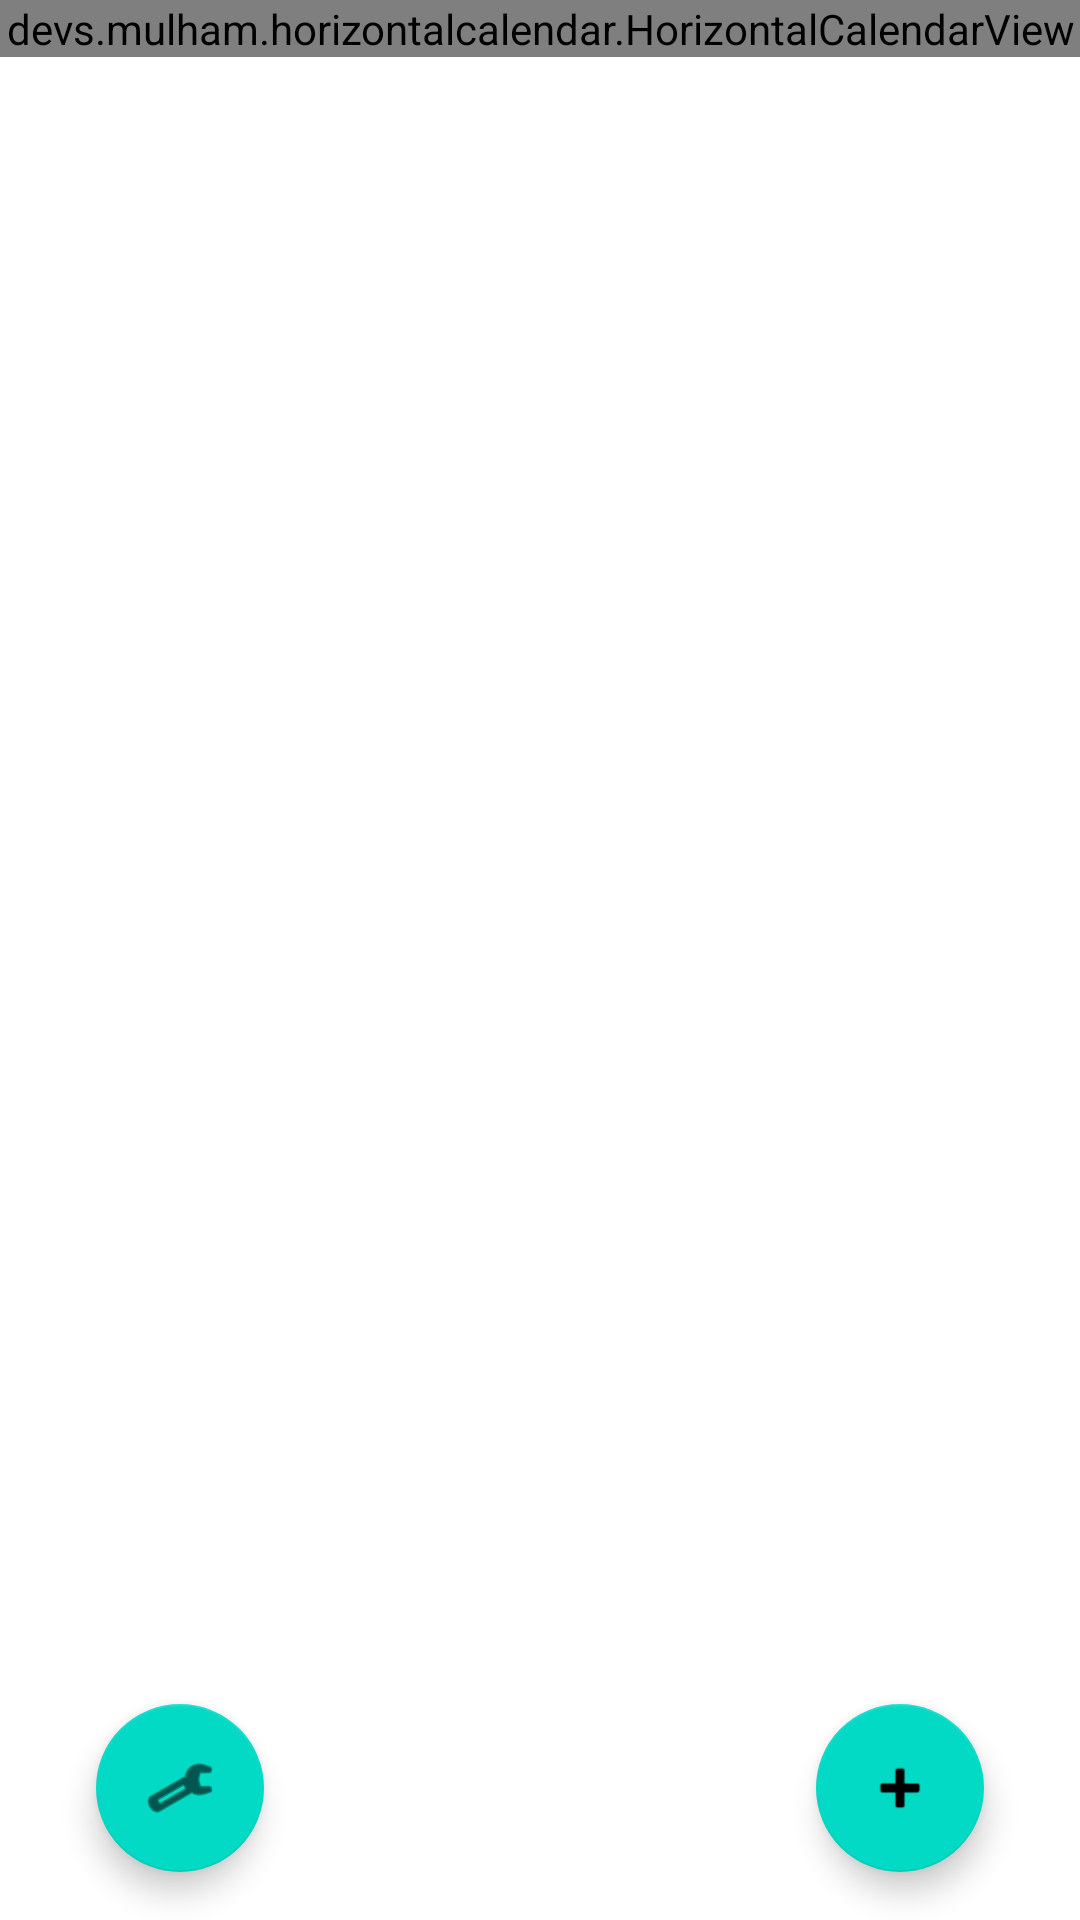

Screen size 1080*1920. Icon name, then its box in pixels as bbox=(x1, y1, x2, y2):
add: bbox=(816, 1704, 984, 1872)
manage: bbox=(96, 1704, 264, 1872)
